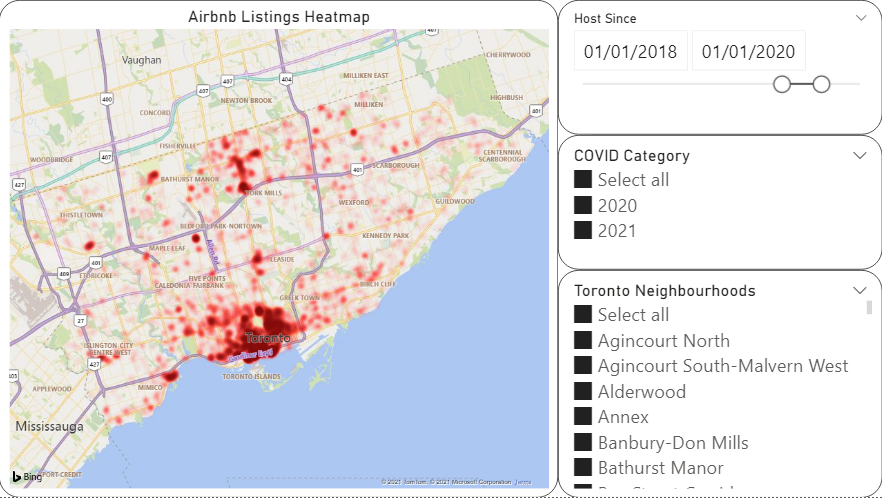

What the dashboard file says about the page in this screenshot:
{"tool":"powerbi","page":{"name":"Map","canvas":[1280,720],"ordinal":1},"visuals":[{"type":"slicer","fields":{"Values":["Date_Host.Date"]},"box":[809.7,0,470.3,195.3],"z":0},{"type":"slicer","fields":{"Values":["airbnb_listings.Year"]},"box":[809.7,195.3,470.3,195.3],"z":1000},{"type":"slicer","fields":{"Values":["airbnb_listings.neighbourhood_cleansed"]},"box":[809.7,390.6,470.3,330],"z":2000},{"type":"map","title":"Airbnb Listings Heatmap","fields":{"Size":["Sum(airbnb_listings.Count)"],"Y":["airbnb_listings.latitude"],"X":["airbnb_listings.longitude"]},"box":[0,0,809.7,720.6],"z":3000}]}

Visuals, with their boxes in screenshot pixels (x1, y1, x2, y2), scaled from the page's 1280x720 canvas onto the 882x498 screenshot:
slicer - Date_Host.Date: region(558, 0, 881, 135)
slicer - airbnb_listings.Year: region(558, 135, 881, 270)
slicer - airbnb_listings.neighbourhood_cleansed: region(558, 270, 881, 497)
"Airbnb Listings Heatmap" map: region(0, 0, 558, 497)
